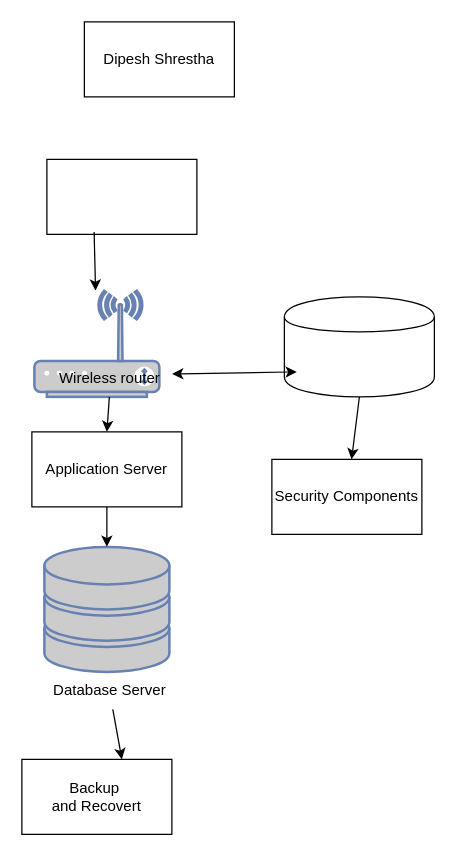
Some shapes in this 456 by 856 pixel diagram are drawn without their labels. Each missing label, with the centre of its shape:
"Staff/Doctor Web Browser/Client" goes at pixel 121 196.
"WWW Server" goes at pixel 358 346.
